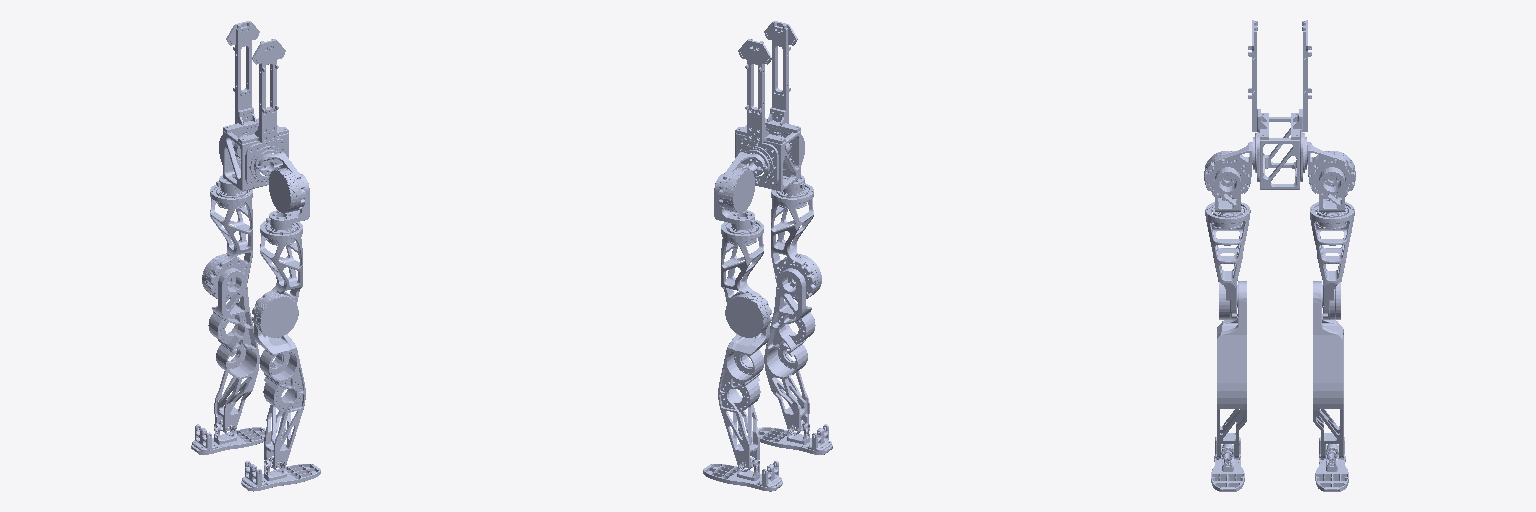
The robot description file, URDF, robot "legged_02":
<?xml version="1.0" encoding="utf-8"?>
<!-- This URDF was automatically created by SolidWorks to URDF Exporter! Originally created by [author] ([email redacted]) 
     Commit Version: 1.6.0-4-g7f85cfe  Build Version: 1.6.7995.38578
     For more information, please see http://wiki.ros.org/sw_urdf_exporter -->
<robot
  name="legged_02">
<mujoco>
  <compiler meshdir="../meshes_02_LB/" balanceinertia="true" discardvisual="false"/>
</mujoco>
  <link
    name="base_link">
    <inertial>
      <origin
        xyz="1.4933E-08 0.00016677 -0.0093587"
        rpy="0 0 0" />
      <mass
        value="7.3728" />
      <inertia
        ixx="0.031671"
        ixy="-1.1914E-05"
        ixz="3.763E-06"
        iyy="0.038105"
        iyz="0.00046447"
        izz="0.014096" />
    </inertial>
    <visual>
      <origin
        xyz="0 0 0"
        rpy="0 0 0" />
      <geometry>
        <mesh
          filename="../meshes_02_LB/base_link.STL" />
      </geometry>
      <material
        name="">
        <color
          rgba="0.79216 0.81961 0.93333 1" />
      </material>
    </visual>
    <collision>
      <origin
        xyz="0 0 0"
        rpy="0 0 0" />
      <geometry>
        <mesh
          filename="../meshes_02_LB/base_link.STL" />
      </geometry>
    </collision>
  </link>
  <link
    name="leg_l1_link">
    <inertial>
      <origin
        xyz="0.017211 0.06891 -0.047286"
        rpy="0 0 0" />
      <mass
        value="2.0594" />
      <inertia
        ixx="0.0048326"
        ixy="0.00028406"
        ixz="-0.00021059"
        iyy="0.0027189"
        iyz="-0.00052536"
        izz="0.0027776" />
    </inertial>
    <visual>
      <origin
        xyz="0 0 0"
        rpy="0 0 0" />
      <geometry>
        <mesh
          filename="../meshes_02_LB/left_leg_pelvic_link.STL" />
      </geometry>
      <material
        name="">
        <color
          rgba="0.79216 0.81961 0.93333 1" />
      </material>
    </visual>
    <!-- <collision>
      <origin
        xyz="0 0 0"
        rpy="0 0 0" />
      <geometry>
        <mesh
          filename="../meshes_02_LB/left_leg_pelvic_link.STL" />
      </geometry>
    </collision> -->
  </link>
  <joint
    name="leg_l1_joint"
    type="revolute">
    <origin
      xyz="0 0.061 -0.0955"
      rpy="0 0 0" />
    <parent
      link="base_link" />
    <child
      link="leg_l1_link" />
    <axis
      xyz="0 1 0" />
    <limit
      lower="-1.92"
      upper="1.57"
      effort="144"
      velocity="14" />
  </joint>
  <link
    name="leg_l2_link">
    <inertial>
      <origin
        xyz="0.036431 4.263E-05 -0.047089"
        rpy="0 0 0" />
      <mass
        value="0.65053" />
      <inertia
        ixx="0.001346"
        ixy="-2.0786E-06"
        ixz="0.00035458"
        iyy="0.0015286"
        iyz="-8.7905E-06"
        izz="0.00078765" />
    </inertial>
    <visual>
      <origin
        xyz="0 0 0"
        rpy="0 0 0" />
      <geometry>
        <mesh
          filename="../meshes_02_LB/left_leg_pelvic_roll_link.STL" />
      </geometry>
      <material
        name="">
        <color
          rgba="0.79216 0.81961 0.93333 1" />
      </material>
    </visual>
    <!-- <collision>
      <origin
        xyz="0 0 0"
        rpy="0 0 0" />
      <geometry>
        <mesh
          filename="../meshes_02_LB/left_leg_pelvic_roll_link.STL" />
      </geometry>
    </collision> -->
  </link>
  <joint
    name="leg_l2_joint"
    type="revolute">
    <origin
      xyz="0.0023 0.0771 -0.055"
      rpy="0 0 0" />
    <parent
      link="leg_l1_link" />
    <child
      link="leg_l2_link" />
    <axis
      xyz="1 0 0" />
    <limit
      lower="-0.17452"
      upper="1.57"
      effort="144"
      velocity="14" />
  </joint>
  <link
    name="leg_l3_link">
    <inertial>
      <origin
        xyz="-0.0076914 0.00069992 -0.20022"
        rpy="0 0 0" />
      <mass
        value="3.8326" />
      <inertia
        ixx="0.020304"
        ixy="0.00015007"
        ixz="0.00067191"
        iyy="0.02298"
        iyz="0.0010392"
        izz="0.0058504" />
    </inertial>
    <visual>
      <origin
        xyz="0 0 0"
        rpy="0 0 0" />
      <geometry>
        <mesh
          filename="../meshes_02_LB/left_leg_pelvic_yaw_link.STL" />
      </geometry>
      <material
        name="">
        <color
          rgba="0.79216 0.81961 0.93333 1" />
      </material>
    </visual>
    <collision>
      <origin
        xyz="0 0 0"
        rpy="0 0 0" />
      <geometry>
        <mesh
          filename="../meshes_02_LB/left_leg_pelvic_yaw_link.STL" />
      </geometry>
    </collision>
  </link>
  <joint
    name="leg_l3_joint"
    type="revolute">
    <origin
      xyz="0 0 -0.0975"
      rpy="0 0 0" />
    <parent
      link="leg_l2_link" />
    <child
      link="leg_l3_link" />
    <axis
      xyz="0 0 1" />
    <limit
      lower="-1.57"
      upper="1.57"
      effort="65"
      velocity="26" />
  </joint>
  <link
    name="leg_l4_link">
    <inertial>
      <origin
        xyz="0.022943 -0.011735 -0.18839"
        rpy="0 0 0" />
      <mass
        value="4.443" />
      <inertia
        ixx="0.070114"
        ixy="0.00039559"
        ixz="-0.0039662"
        iyy="0.072348"
        iyz="-0.0048183"
        izz="0.0069903" />
    </inertial>
    <visual>
      <origin
        xyz="0 0 0"
        rpy="0 0 0" />
      <geometry>
        <mesh
          filename="../meshes_02_LB/left_leg_knee_pitch_link.STL" />
      </geometry>
      <material
        name="">
        <color
          rgba="0.79216 0.81961 0.93333 1" />
      </material>
    </visual>
    <collision>
      <origin
        xyz="0 0 0"
        rpy="0 0 0" />
      <geometry>
        <mesh
          filename="../meshes_02_LB/left_leg_knee_pitch_link.STL" />
      </geometry>
    </collision>
  </link>
  <joint
    name="leg_l4_joint"
    type="revolute">
    <origin
      xyz="-0.0200000000000019 0 -0.2734"
      rpy="0 0 0" />
    <parent
      link="leg_l3_link" />
    <child
      link="leg_l4_link" />
    <axis
      xyz="0 1 0" />
    <limit
      lower="0.0"
      upper="2.51"
      effort="144"
      velocity="14" />
  </joint>
  <link
    name="leg_l5_link">
    <inertial>
      <origin
        xyz="-0.00083492 -9.7623E-07 7.7002E-09"
        rpy="0 0 0" />
      <mass
        value="0.070298" />
      <inertia
        ixx="1.596E-05"
        ixy="3.0302E-10"
        ixz="3.6177E-12"
        iyy="9.0753E-06"
        iyz="-9.8415E-12"
        izz="1.2564E-05" />
    </inertial>
    <visual>
      <origin
        xyz="0 0 0"
        rpy="0 0 0" />
      <geometry>
        <mesh
          filename="../meshes_02_LB/left_leg_ankle_pitch_link.STL" />
      </geometry>
      <material
        name="">
        <color
          rgba="0.79216 0.81961 0.93333 1" />
      </material>
    </visual>
    <!-- <collision>
      <origin
        xyz="0 0 0"
        rpy="0 0 0" />
      <geometry>
        <mesh
          filename="../meshes_02_LB/left_leg_ankle_pitch_link.STL" />
      </geometry>
    </collision> -->
  </link>
  <joint
    name="leg_l5_joint"
    type="revolute">
    <origin
      xyz="0 0 -0.453"
      rpy="0 0 0" />
    <parent
      link="leg_l4_link" />
    <child
      link="leg_l5_link" />
    <axis
      xyz="0 1 0" />
    <limit
      lower="-0.873"
      upper="0.5236"
      effort="65"
      velocity="26" />
  </joint>
  <link
    name="leg_l6_link">
    <inertial>
      <origin
        xyz="-0.011091 1.3621E-05 -0.043286"
        rpy="0 0 0" />
      <mass
        value="0.57639" />
      <inertia
        ixx="0.00030127"
        ixy="-5.4542E-07"
        ixz="-8.7984E-06"
        iyy="0.0014419"
        iyz="7.4856E-09"
        izz="0.0016409" />
    </inertial>
    <visual>
      <origin
        xyz="0 0 0"
        rpy="0 0 0" />
      <geometry>
        <mesh
          filename="../meshes_02_LB/left_leg_ankle_roll_link.STL" />
      </geometry>
      <material
        name="">
        <color
          rgba="0.79216 0.81961 0.93333 1" />
      </material>
    </visual>
    <!-- <collision>
      <origin
        xyz="0 0 0"
        rpy="0 0 0" />
      <geometry>
        <mesh
          filename="../meshes_02_LB/left_leg_ankle_roll_link.STL" />
      </geometry>
    </collision> -->
    <collision>
      <origin
        xyz="0.02 0 -0.05"
        rpy="0 0 0" />
      <geometry>
        <box size="0.20 0.08 0.02" />
      </geometry>
    </collision>
  </link>
  <joint
    name="leg_l6_joint"
    type="revolute">
    <origin
      xyz="0 0 0"
      rpy="0 0 0" />
    <parent
      link="leg_l5_link" />
    <child
      link="leg_l6_link" />
    <axis
      xyz="1 0 0" />
    <limit
      lower="-0.5236"
      upper="0.5236"
      effort="65"
      velocity="26" />
  </joint>
  <link
    name="leg_r1_link">
    <inertial>
      <origin
        xyz="0.017211 -0.06891 -0.047286"
        rpy="0 0 0" />
      <mass
        value="2.0594" />
      <inertia
        ixx="0.0048326"
        ixy="-0.00028406"
        ixz="-0.0002106"
        iyy="0.0027192"
        iyz="0.00052616"
        izz="0.0027773" />
    </inertial>
    <visual>
      <origin
        xyz="0 0 0"
        rpy="0 0 0" />
      <geometry>
        <mesh
          filename="../meshes_02_LB/right_leg_pelvic_link.STL" />
      </geometry>
      <material
        name="">
        <color
          rgba="0.79216 0.81961 0.93333 1" />
      </material>
    </visual>
    <!-- <collision>
      <origin
        xyz="0 0 0"
        rpy="0 0 0" />
      <geometry>
        <mesh
          filename="../meshes_02_LB/right_leg_pelvic_link.STL" />
      </geometry>
    </collision> -->
  </link>
  <joint
    name="leg_r1_joint"
    type="revolute">
    <origin
      xyz="0 -0.061 -0.0955"
      rpy="0 0 0" />
    <parent
      link="base_link" />
    <child
      link="leg_r1_link" />
    <axis
      xyz="0 1 0" />
    <limit
      lower="-1.92"
      upper="1.57"
      effort="144"
      velocity="14" />
  </joint>
  <link
    name="leg_r2_link">
    <inertial>
      <origin
        xyz="0.036431 4.263E-05 -0.047089"
        rpy="0 0 0" />
      <mass
        value="0.65053" />
      <inertia
        ixx="0.001346"
        ixy="-2.0786E-06"
        ixz="0.00035458"
        iyy="0.0015286"
        iyz="-8.7905E-06"
        izz="0.00078765" />
    </inertial>
    <visual>
      <origin
        xyz="0 0 0"
        rpy="0 0 0" />
      <geometry>
        <mesh
          filename="../meshes_02_LB/right_leg_pelvic_roll_link.STL" />
      </geometry>
      <material
        name="">
        <color
          rgba="0.79216 0.81961 0.93333 1" />
      </material>
    </visual>
    <!-- <collision>
      <origin
        xyz="0 0 0"
        rpy="0 0 0" />
      <geometry>
        <mesh
          filename="../meshes_02_LB/right_leg_pelvic_roll_link.STL" />
      </geometry>
    </collision> -->
  </link>
  <joint
    name="leg_r2_joint"
    type="revolute">
    <origin
      xyz="0.0023 -0.0771 -0.055"
      rpy="0 0 0" />
    <parent
      link="leg_r1_link" />
    <child
      link="leg_r2_link" />
    <axis
      xyz="1 0 0" />
    <limit
      lower="-1.57"
      upper="0.17452"
      effort="144"
      velocity="14" />
  </joint>
  <link
    name="leg_r3_link">
    <inertial>
      <origin
        xyz="-0.00770240227550866 -0.000699390855411264 -0.200218006767183"
        rpy="0 0 0" />
      <mass
        value="3.83267657347025" />
      <inertia
        ixx="0.020305538084709"
        ixy="-0.000148732766919696"
        ixz="0.000671998770624803"
        iyy="0.0229809215031682"
        iyz="-0.00103902333415628"
        izz="0.00584988849044785" />
    </inertial>
    <visual>
      <origin
        xyz="0 0 0"
        rpy="0 0 0" />
      <geometry>
        <mesh
          filename="../meshes_02_LB/right_leg_pelvic_yaw_link.STL" />
      </geometry>
      <material
        name="">
        <color
          rgba="0.792156862745098 0.819607843137255 0.933333333333333 1" />
      </material>
    </visual>
    <collision>
      <origin
        xyz="0 0 0"
        rpy="0 0 0" />
      <geometry>
        <mesh
          filename="../meshes_02_LB/right_leg_pelvic_yaw_link.STL" />
      </geometry>
    </collision>
  </link>
  <joint
    name="leg_r3_joint"
    type="revolute">
    <origin
      xyz="0 0 -0.0975"
      rpy="0 0 0" />
    <parent
      link="leg_r2_link" />
    <child
      link="leg_r3_link" />
    <axis
      xyz="0 0 1" />
    <limit
      lower="-1.57"
      upper="1.57"
      effort="65"
      velocity="26" />
  </joint>
  <link
    name="leg_r4_link">
    <inertial>
      <origin
        xyz="0.022943 0.011735 -0.18839"
        rpy="0 0 0" />
      <mass
        value="4.4427" />
      <inertia
        ixx="0.070109"
        ixy="-0.00039557"
        ixz="-0.003966"
        iyy="0.072344"
        iyz="0.004818"
        izz="0.0069898" />
    </inertial>
    <visual>
      <origin
        xyz="0 0 0"
        rpy="0 0 0" />
      <geometry>
        <mesh
          filename="../meshes_02_LB/right_leg_knee_pitch_link.STL" />
      </geometry>
      <material
        name="">
        <color
          rgba="0.79216 0.81961 0.93333 1" />
      </material>
    </visual>
    <collision>
      <origin
        xyz="0 0 0"
        rpy="0 0 0" />
      <geometry>
        <mesh
          filename="../meshes_02_LB/right_leg_knee_pitch_link.STL" />
      </geometry>
    </collision>
  </link>
  <joint
    name="leg_r4_joint"
    type="revolute">
    <origin
      xyz="-0.02 0 -0.2734"
      rpy="0 0 0" />
    <parent
      link="leg_r3_link" />
    <child
      link="leg_r4_link" />
    <axis
      xyz="0 1 0" />
    <limit
      lower="0.0"
      upper="2.51"
      effort="144"
      velocity="14" />
  </joint>
  <link
    name="leg_r5_link">
    <inertial>
      <origin
        xyz="-0.00083492 4.7559E-06 7.7002E-09"
        rpy="0 0 0" />
      <mass
        value="0.070298" />
      <inertia
        ixx="1.596E-05"
        ixy="3.0302E-10"
        ixz="3.6177E-12"
        iyy="9.0753E-06"
        iyz="-9.8415E-12"
        izz="1.2564E-05" />
    </inertial>
    <visual>
      <origin
        xyz="0 0 0"
        rpy="0 0 0" />
      <geometry>
        <mesh
          filename="../meshes_02_LB/right_leg_ankle_pitch_link.STL" />
      </geometry>
      <material
        name="">
        <color
          rgba="0.79216 0.81961 0.93333 1" />
      </material>
    </visual>
    <!-- <collision>
      <origin
        xyz="0 0 0"
        rpy="0 0 0" />
      <geometry>
        <mesh
          filename="../meshes_02_LB/right_leg_ankle_pitch_link.STL" />
      </geometry>
    </collision> -->
  </link>
  <joint
    name="leg_r5_joint"
    type="revolute">
    <origin
      xyz="0 0 -0.453"
      rpy="0 0 0" />
    <parent
      link="leg_r4_link" />
    <child
      link="leg_r5_link" />
    <axis
      xyz="0 1 0" />
    <limit
      lower="-0.873"
      upper="0.5236"
      effort="65"
      velocity="26" />
  </joint>
  <link
    name="leg_r6_link">
    <inertial>
      <origin
        xyz="-0.011091 1.3621E-05 -0.043286"
        rpy="0 0 0" />
      <mass
        value="0.57639" />
      <inertia
        ixx="0.00030127"
        ixy="-5.4543E-07"
        ixz="-8.7984E-06"
        iyy="0.0014419"
        iyz="7.4848E-09"
        izz="0.0016409" />
    </inertial>
    <visual>
      <origin
        xyz="0 0 0"
        rpy="0 0 0" />
      <geometry>
        <mesh
          filename="../meshes_02_LB/right_leg_ankle_roll_link.STL" />
      </geometry>
      <material
        name="">
        <color
          rgba="0.79216 0.81961 0.93333 1" />
      </material>
    </visual>
    <!-- <collision>
      <origin
        xyz="0 0 0"
        rpy="0 0 0" />
      <geometry>
        <mesh
          filename="../meshes_02_LB/right_leg_ankle_roll_link.STL" />
      </geometry>
    </collision> -->
    <collision>
      <origin
        xyz="0.02 0 -0.05"
        rpy="0 0 0" />
      <geometry>
        <box size="0.20 0.08 0.02" />
      </geometry>
    </collision>
  </link>
  <joint
    name="leg_r6_joint"
    type="revolute">
    <origin
      xyz="0 0 0"
      rpy="0 0 0" />
    <parent
      link="leg_r5_link" />
    <child
      link="leg_r6_link" />
    <axis
      xyz="1 0 0" />
    <limit
      lower="-0.5236"
      upper="0.5236"
      effort="65"
      velocity="26" />
  </joint>
</robot>

--- Render facts (derived) ---
3 views of the same robot in one strip: view 1: azimuth 30°, elevation 25°; view 2: azimuth 150°, elevation 25°; view 3: azimuth 270°, elevation 25° (orthographic).
Robot: legged_02 — 13 links, 12 joints (12 revolute); root link base_link; default pose: all joints at 0.
Links seen in each view (by area): view 1: base_link, leg_l4_link, leg_r4_link, leg_r3_link, leg_l3_link, leg_r1_link, leg_r6_link, leg_l6_link, leg_r2_link; view 2: base_link, leg_r4_link, leg_l4_link, leg_l3_link, leg_r3_link, leg_l1_link, leg_l6_link, leg_r6_link, leg_l2_link; view 3: leg_l4_link, base_link, leg_r4_link, leg_r3_link, leg_l3_link, leg_l1_link, leg_r1_link, leg_r6_link, leg_l6_link, leg_r2_link, leg_l2_link.
Boxes of the visible links, x1=… form: base_link: x1=223, y1=21, x2=288, y2=190; leg_l4_link: x1=208, y1=268, x2=259, y2=435; leg_r4_link: x1=254, y1=296, x2=305, y2=471; leg_r3_link: x1=252, y1=221, x2=302, y2=337; leg_l3_link: x1=202, y1=185, x2=252, y2=301; leg_r1_link: x1=256, y1=152, x2=305, y2=213; leg_r6_link: x1=241, y1=460, x2=320, y2=491; leg_l6_link: x1=191, y1=423, x2=265, y2=454; leg_r2_link: x1=266, y1=174, x2=309, y2=227; base_link: x1=735, y1=21, x2=800, y2=191; leg_r4_link: x1=764, y1=268, x2=815, y2=435; leg_l4_link: x1=718, y1=296, x2=769, y2=471; leg_l3_link: x1=721, y1=220, x2=771, y2=337; leg_r3_link: x1=771, y1=183, x2=821, y2=301; leg_l1_link: x1=718, y1=152, x2=767, y2=213; leg_l6_link: x1=703, y1=460, x2=782, y2=491; leg_r6_link: x1=758, y1=423, x2=832, y2=454; leg_l2_link: x1=714, y1=174, x2=755, y2=227; leg_l4_link: x1=1313, y1=281, x2=1343, y2=457; base_link: x1=1248, y1=20, x2=1311, y2=189; leg_r4_link: x1=1217, y1=281, x2=1246, y2=457; leg_r3_link: x1=1205, y1=202, x2=1250, y2=319; leg_l3_link: x1=1310, y1=202, x2=1354, y2=319; leg_l1_link: x1=1307, y1=142, x2=1355, y2=198; leg_r1_link: x1=1204, y1=142, x2=1252, y2=199; leg_r6_link: x1=1211, y1=437, x2=1244, y2=491; leg_l6_link: x1=1315, y1=437, x2=1348, y2=491; leg_r2_link: x1=1215, y1=167, x2=1240, y2=211; leg_l2_link: x1=1319, y1=167, x2=1344, y2=211.
Bounding box of the posed robot: 0.235 × 0.4002 × 1.31 m (x, y, z).
13 mesh visuals loaded from 13 distinct referenced files (13 binary STL).